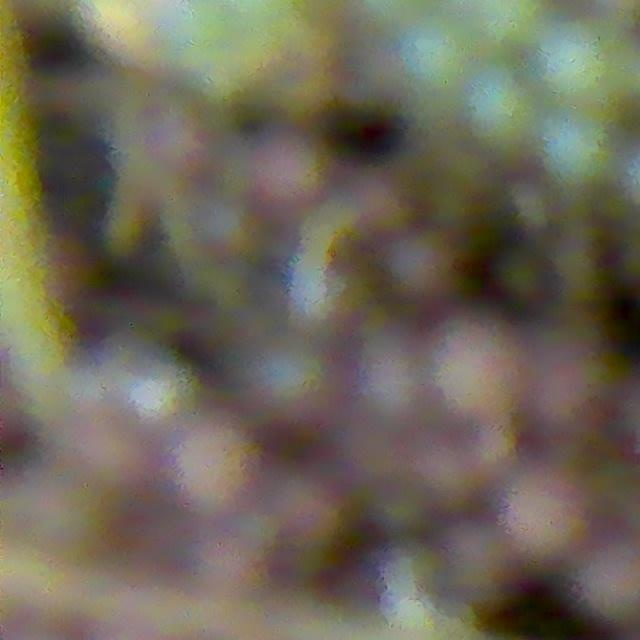SeaGrape: (169, 411, 278, 530), (528, 10, 629, 115), (389, 9, 481, 102), (243, 336, 333, 428), (504, 463, 585, 558), (460, 65, 541, 152), (537, 108, 617, 190), (278, 491, 348, 575)
